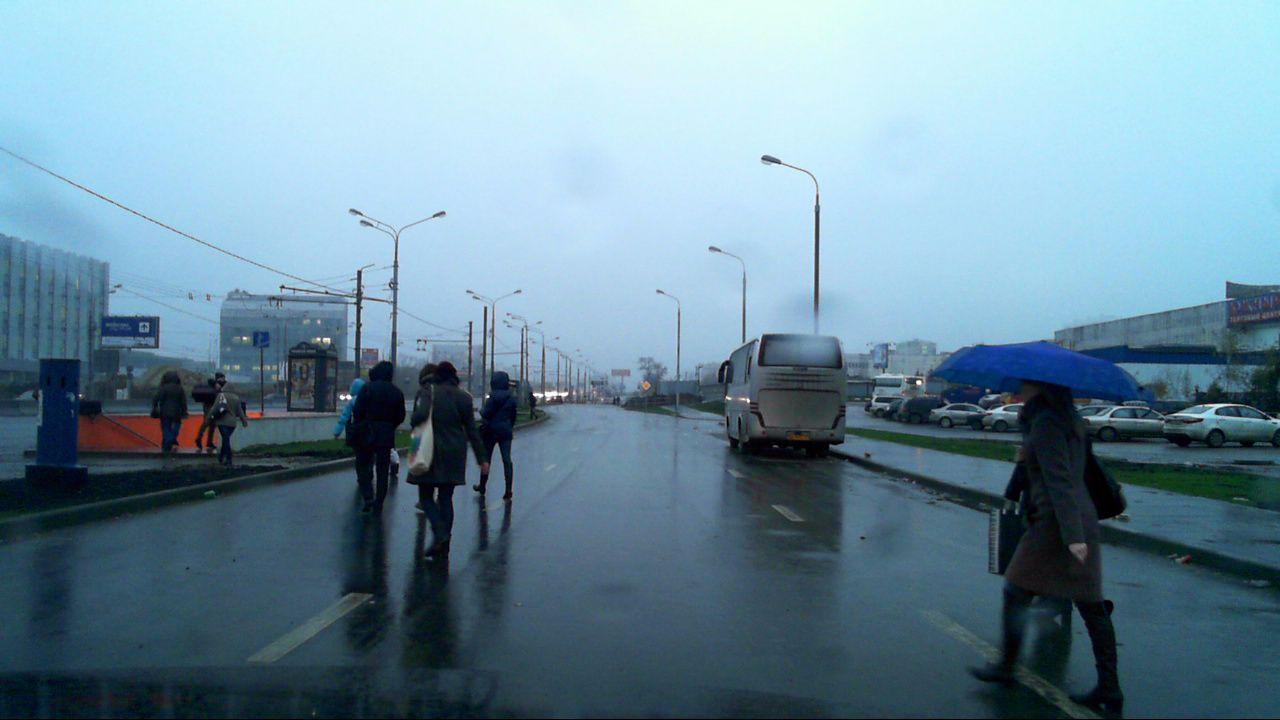6_6: (253, 331, 269, 348)
